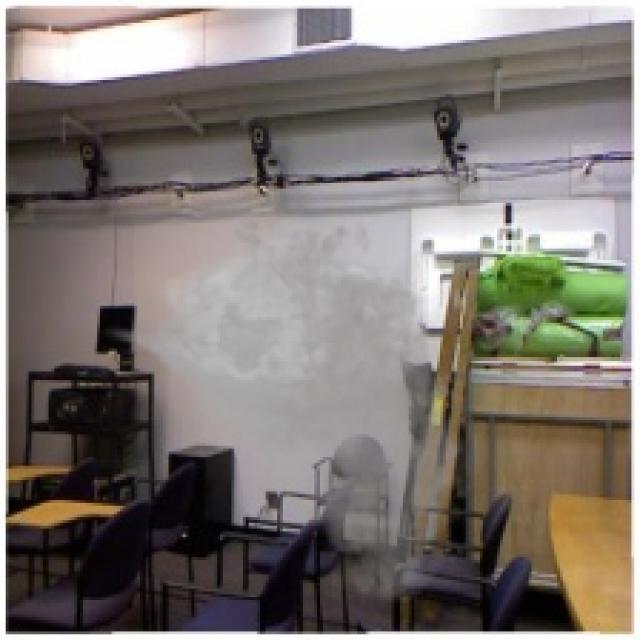smoke: (100, 192, 480, 608)
